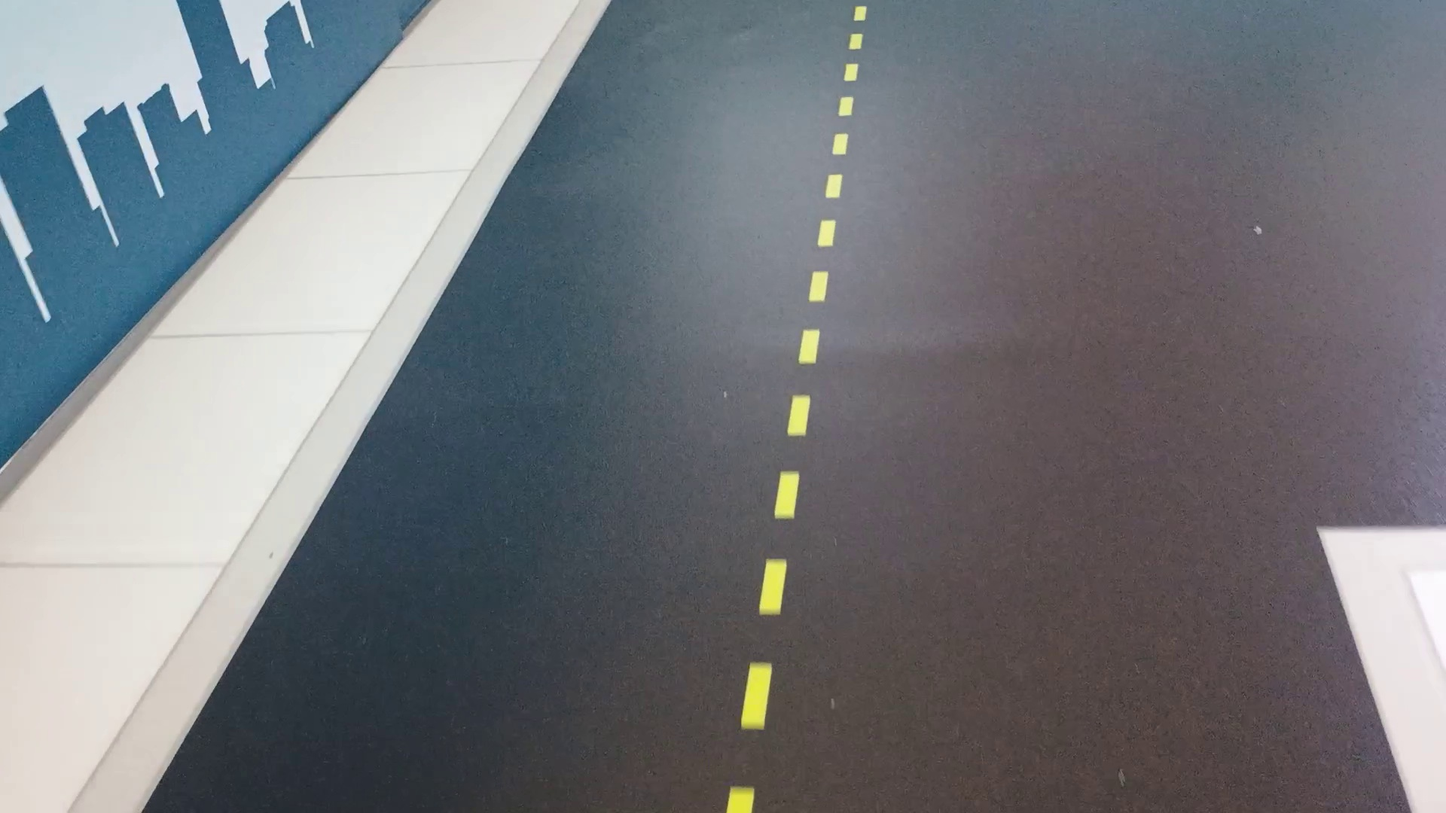Dashed: (741, 662, 770, 729), (760, 560, 786, 614), (775, 472, 798, 517), (787, 395, 809, 436), (726, 787, 754, 812), (800, 329, 819, 363), (809, 272, 828, 300), (817, 221, 835, 246), (825, 175, 842, 197), (832, 134, 847, 154), (838, 97, 853, 116), (844, 63, 858, 80), (850, 33, 862, 49), (853, 6, 866, 19)
Street: (151, 0, 1445, 812)
